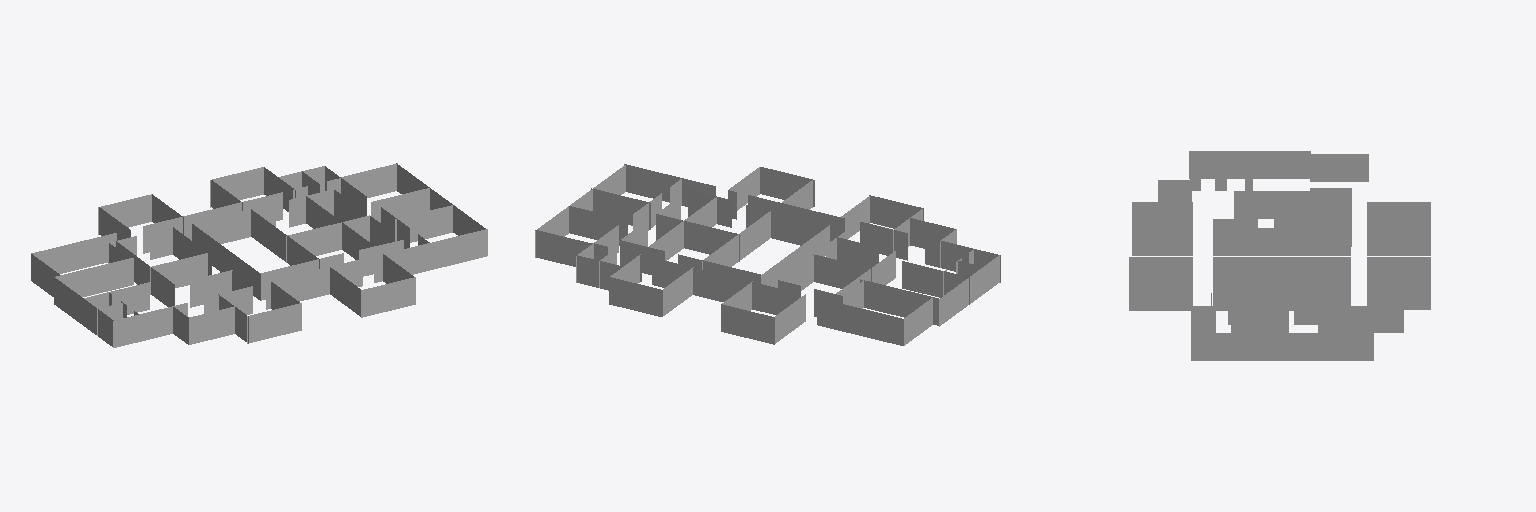
Rendered from bright_3rd_floor_walls.obj.
3 views of the same model, side by side, from view 1: azimuth 30°, elevation 25°; view 2: azimuth 150°, elevation 25°; view 3: azimuth 270°, elevation 25° (orthographic).
Visible parts, largest first — view 1: polySurface1; view 2: polySurface1; view 3: polySurface1.
Part boxes in pixels (bbox=[...]): polySurface1: bbox=[31, 163, 487, 347]; polySurface1: bbox=[535, 164, 1000, 345]; polySurface1: bbox=[1129, 151, 1430, 360].
Bounding box in the file's own units: 348 × 24.51 × 243.